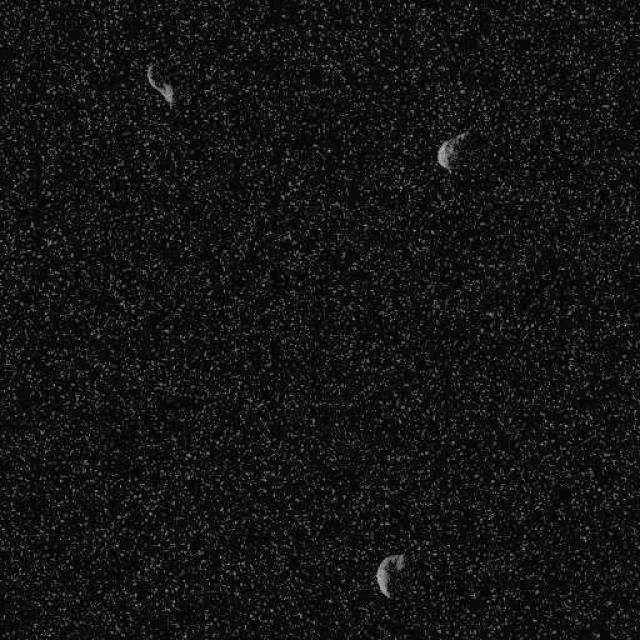D2: (435, 126, 473, 172), (375, 552, 405, 598), (145, 62, 175, 106)
